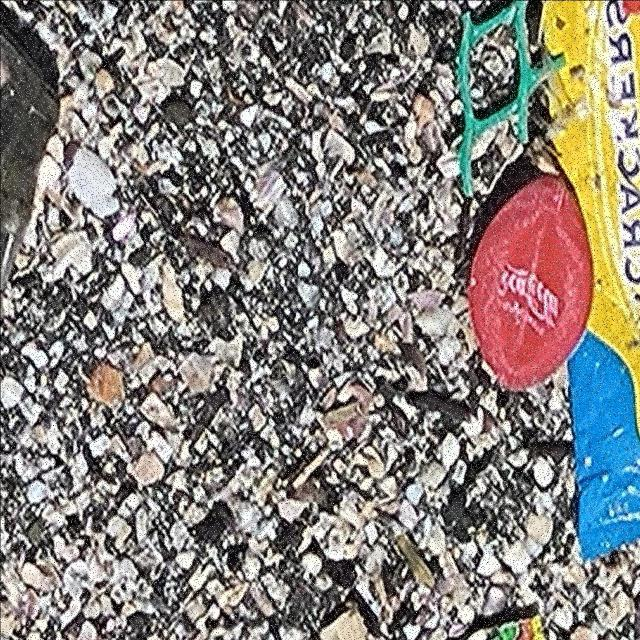plastic_waste: (466, 173, 595, 395)
